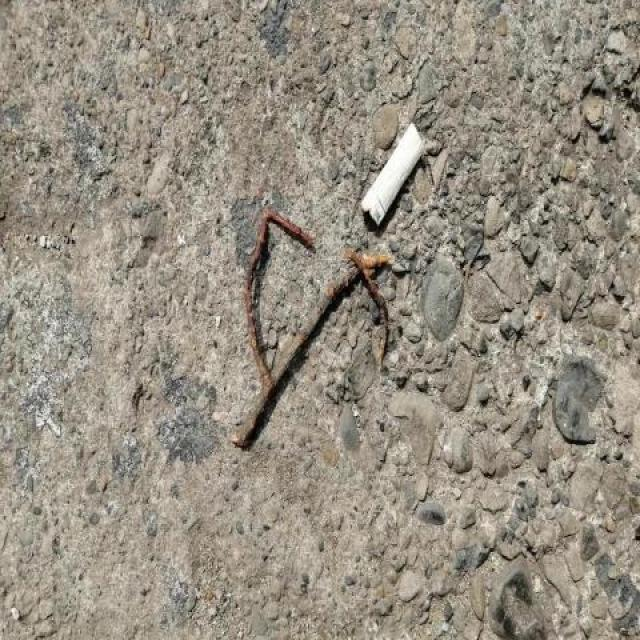non-organic waste: (353, 118, 432, 234)
